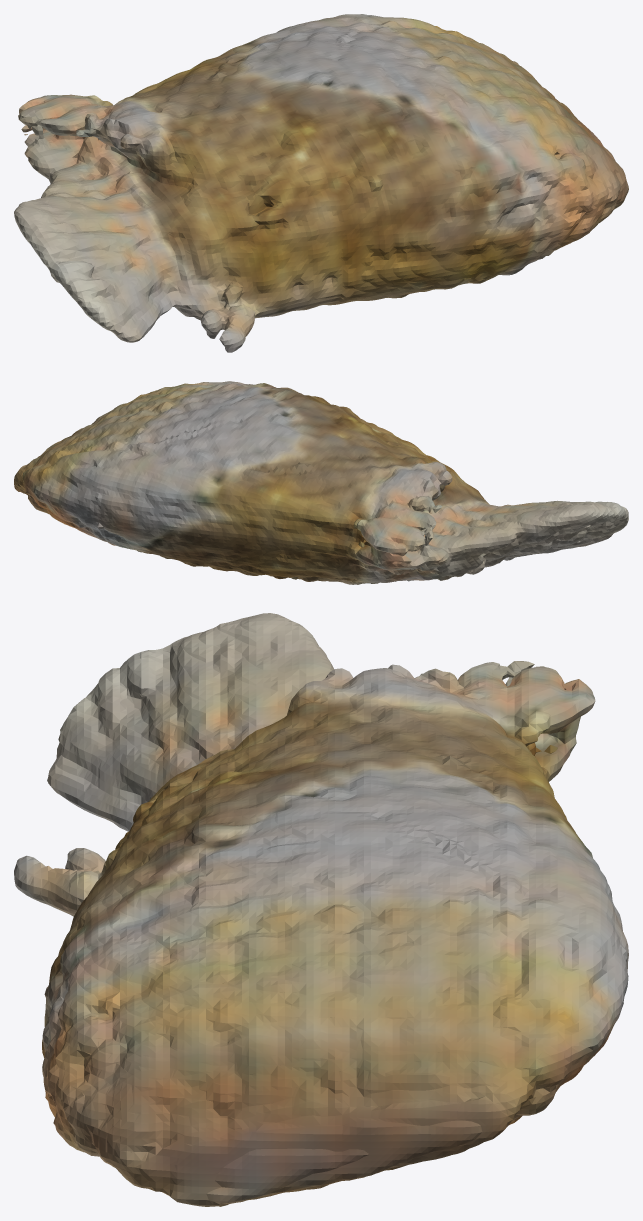
The model's file is apistogramma-macmasteri.glb.
3 renders of one model, top to bottom at view 1: azimuth 30°, elevation 25°; view 2: azimuth 150°, elevation 25°; view 3: azimuth 270°, elevation 25°, orthographic. The views are drawn at different scales.
Visible parts, largest first — view 1: world; view 2: world; view 3: world.
Part boxes in pixels (x1,y1,x2,y2): world: (14, 14, 628, 352); world: (14, 381, 628, 584); world: (14, 613, 628, 1206).
Bounding box in the file's own units: 0.9901 × 0.3026 × 0.5849.
